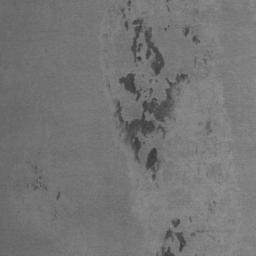Iron scale compression: (117, 74, 191, 158), (132, 19, 164, 75), (156, 218, 188, 255), (120, 72, 141, 101), (146, 148, 161, 181), (193, 35, 201, 44), (184, 26, 189, 37)
